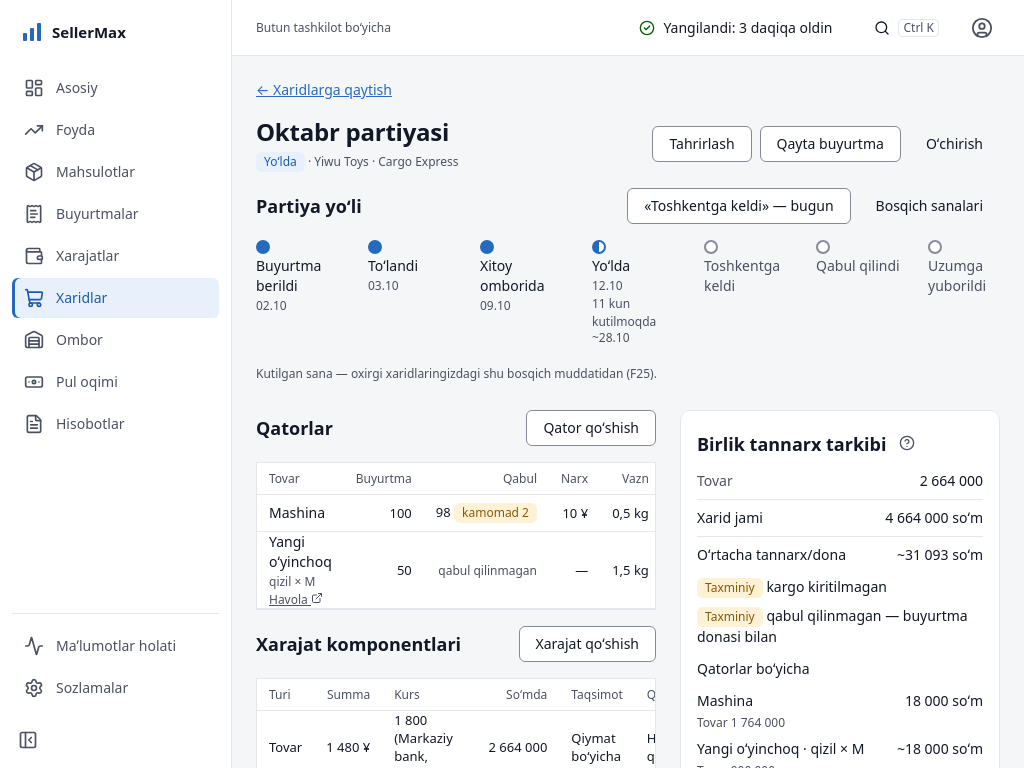
xarid sahifasi › keyingi bosqich — bugungi sana bilan PATCH; javob keshga qo'yiladi
Click the button "«Toshkentga keldi» — bugun": click(739, 206) [627,188,851,224]
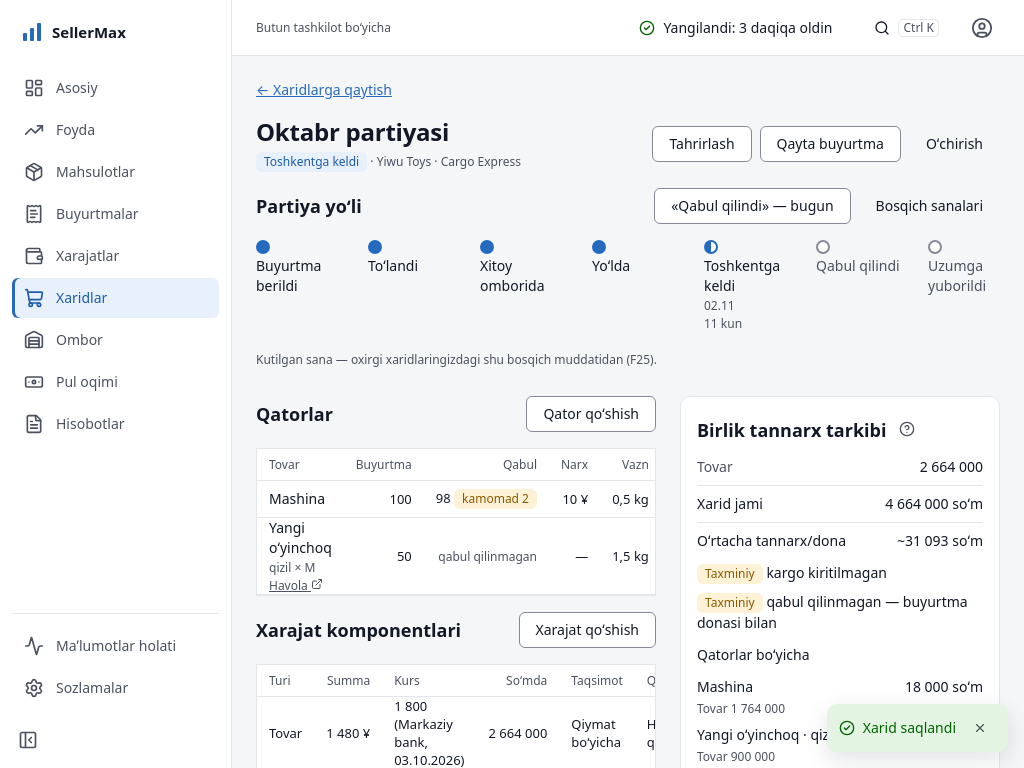
Now the button "«Qabul qilindi» — bugun" is shown, box [654,188,850,224]
